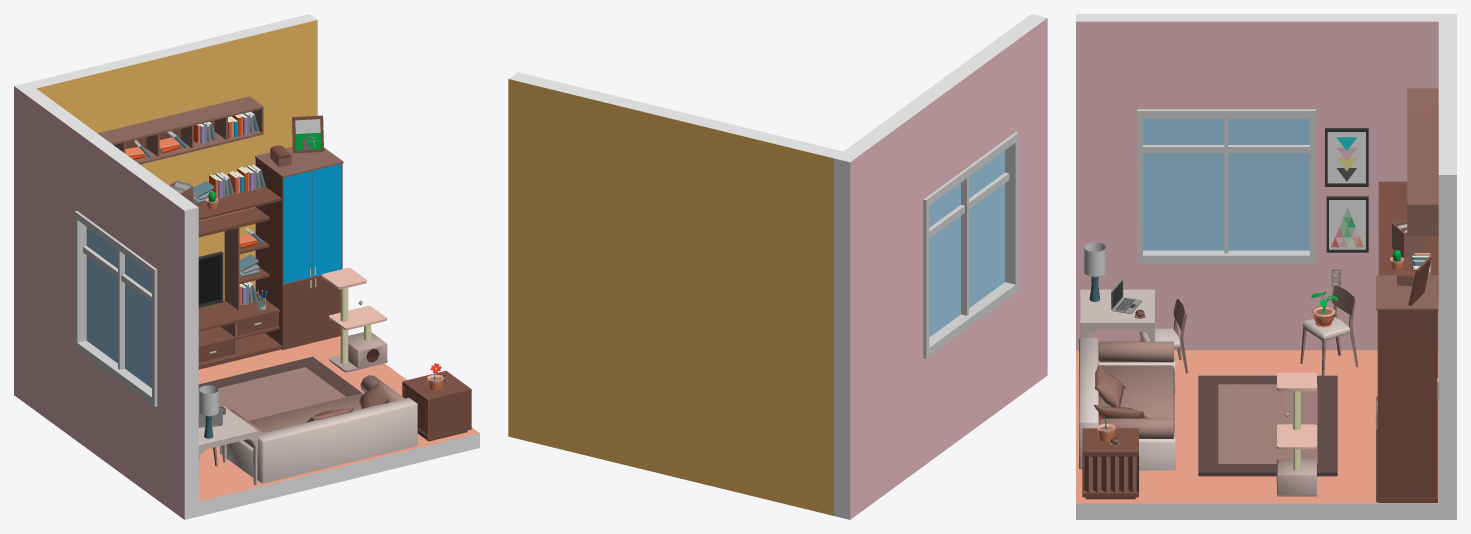
File: room_25.glb
3 renders of one model, left to right at view 1: azimuth 30°, elevation 25°; view 2: azimuth 150°, elevation 25°; view 3: azimuth 270°, elevation 25°, orthographic. The views are drawn at different scales.
Parts seen in each view (by area): view 1: Walls_010.001, tv_wall_007.001, Walls_188.014, Walls_188.011, window_019.001, sofa_004.001, Walls_161.001, Walls_188.013, Walls_188.012, carpet_001.003, tv_wall_022.001, prop_014.001 (+7 smaller); view 2: Walls_010.001, Walls_188.014, window_019.001, Walls_188.011, Walls_188.013, Walls_188.012; view 3: window_019.001, Walls_161.001, Walls_188.014, Walls_188.011, Walls_188.013, tv_wall_007.001, Walls_188.012, carpet_001.003, sofa_004.001, Walls_010.001, tv_wall_022.001, shelf_042.001 (+11 smaller).
Part boxes in pixels (x1,y1,x2,y2): Walls_010.001: (28,14,317,300); tv_wall_007.001: (193,147,343,369); Walls_188.014: (14,82,92,442); Walls_188.011: (156,187,198,519); window_019.001: (74,211,157,406); sofa_004.001: (220,375,417,483); Walls_161.001: (198,336,479,516); Walls_188.013: (79,130,169,267); Walls_188.012: (79,352,155,498); carpet_001.003: (198,356,361,420); tv_wall_022.001: (98,96,263,164); prop_014.001: (321,267,387,372); Walls_010.001: (508,72,842,515); Walls_188.014: (834,103,925,519); window_019.001: (923,132,1018,358); Walls_188.011: (999,14,1047,398); Walls_188.013: (909,38,1014,197); Walls_188.012: (925,294,1014,464); window_019.001: (1137,109,1315,264); Walls_161.001: (1076,350,1438,519); Walls_188.014: (1311,14,1456,350); Walls_188.011: (1076,14,1139,350); Walls_188.013: (1139,14,1311,109); tv_wall_007.001: (1375,181,1438,502); Walls_188.012: (1139,264,1311,350); carpet_001.003: (1198,375,1337,476); sofa_004.001: (1079,337,1175,470); Walls_010.001: (1438,21,1456,519); tv_wall_022.001: (1407,88,1438,235); shelf_042.001: (1082,428,1138,499).
Bounding box in the file's own units: 4.24 × 4.2 × 4.2.
Materials: 1 (1 with a texture image).
